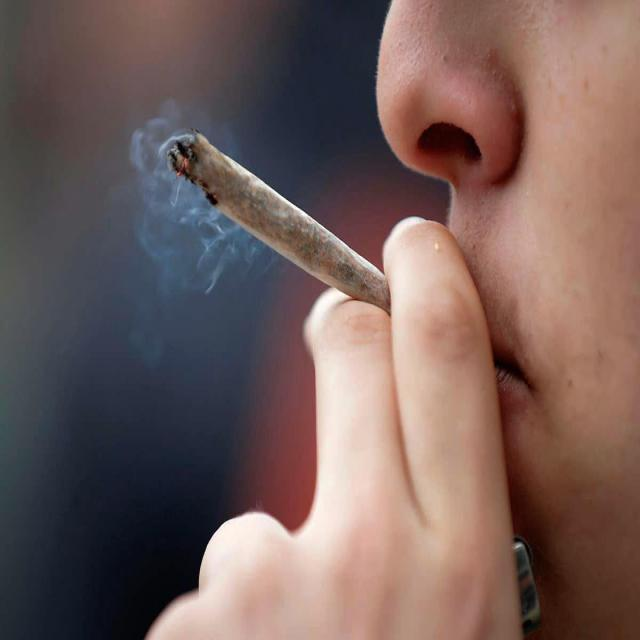cigarette: (163, 127, 394, 310)
